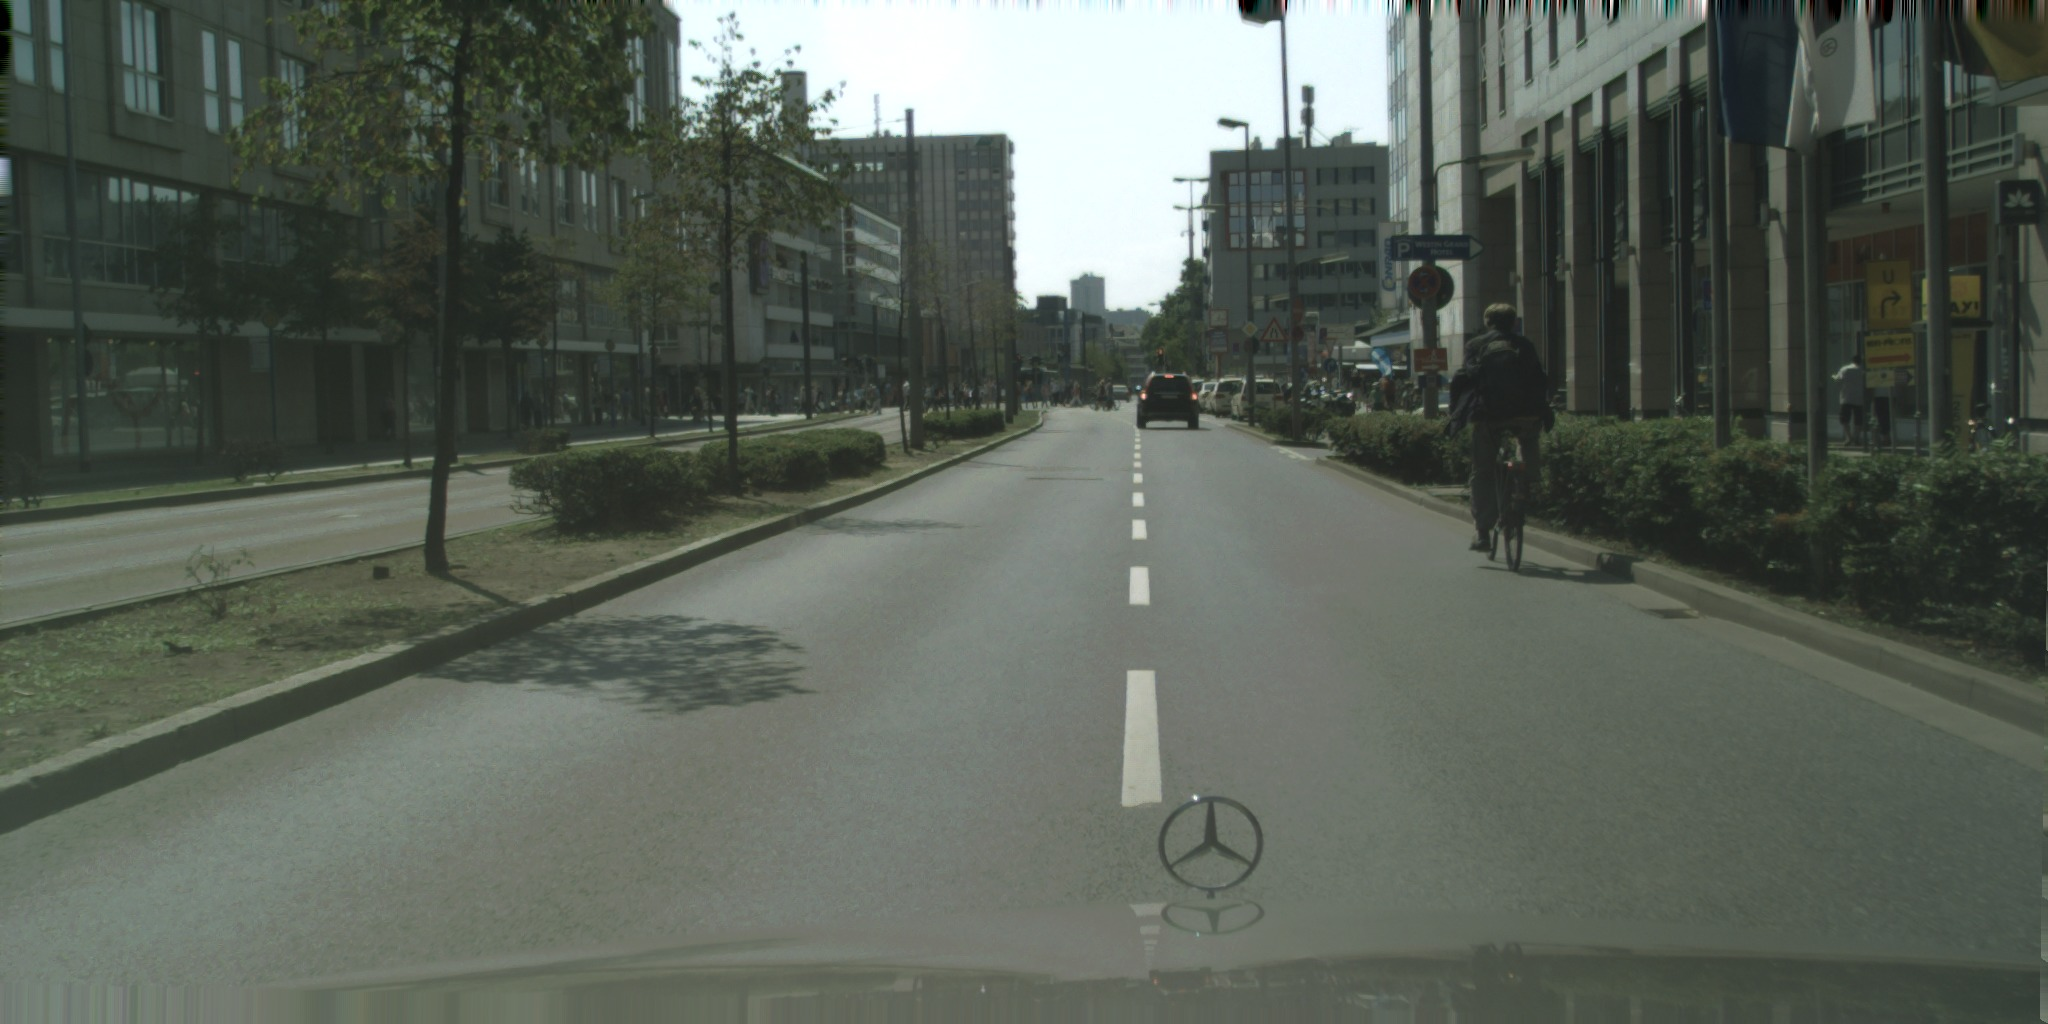bicycle: (1480, 394, 1532, 575), (1965, 401, 1999, 462)
car: (1135, 371, 1200, 431), (1229, 376, 1287, 422), (1206, 374, 1251, 419), (1194, 378, 1227, 413), (1108, 384, 1131, 403), (1189, 379, 1205, 400)
person: (1832, 352, 1869, 448), (1869, 361, 1895, 448), (381, 389, 397, 442)
rider: (1443, 302, 1557, 553)
